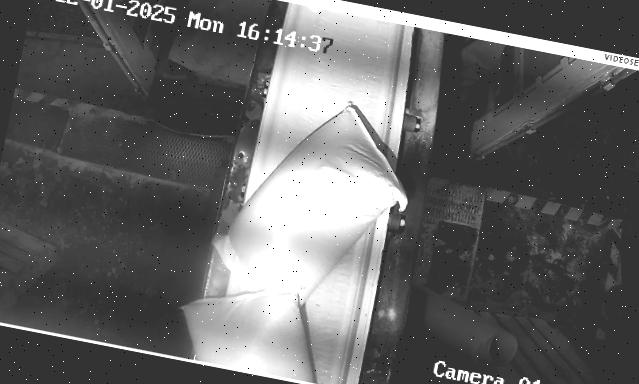bag: (200, 84, 424, 332), (172, 266, 332, 383)
